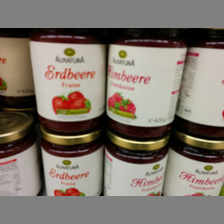jam: (106, 29, 190, 140), (29, 28, 105, 135), (173, 28, 224, 138), (103, 129, 171, 196), (40, 126, 103, 196), (164, 130, 224, 196)
